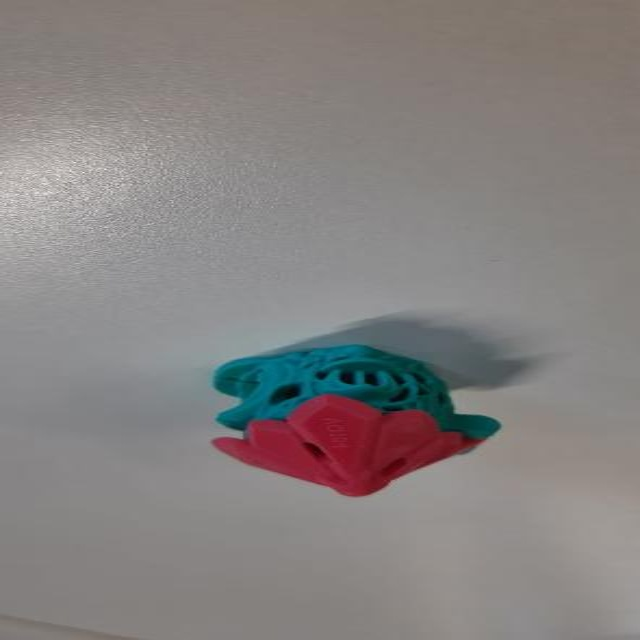House: (189, 296, 536, 516)
